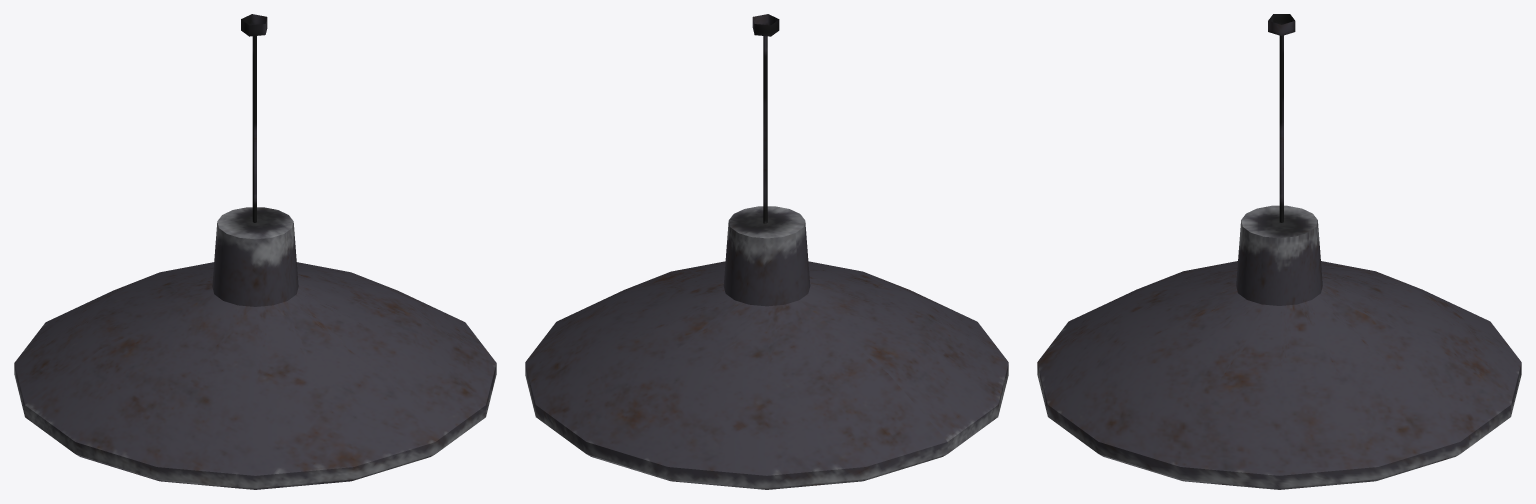
Rendered from Lamp.FBX.
3 views of the same model, side by side, from view 1: azimuth 30°, elevation 25°; view 2: azimuth 150°, elevation 25°; view 3: azimuth 270°, elevation 25° (orthographic).
Visible parts, largest first — view 1: Lamp; view 2: Lamp; view 3: Lamp.
Boxes of the visible parts, <box> form: Lamp: <box>14,14,496,489</box>; Lamp: <box>525,14,1008,489</box>; Lamp: <box>1037,14,1521,489</box>.
Bounding box in the file's own units: 20.86 × 17.75 × 20.98.
